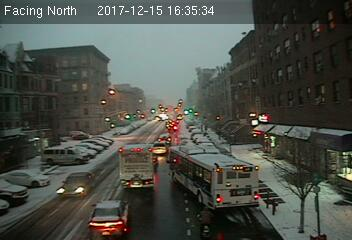bicycle: (195, 205, 215, 240)
bus: (169, 145, 260, 209)
car: (90, 202, 128, 235), (57, 172, 94, 197), (153, 140, 168, 153)
truck: (118, 145, 155, 190)
